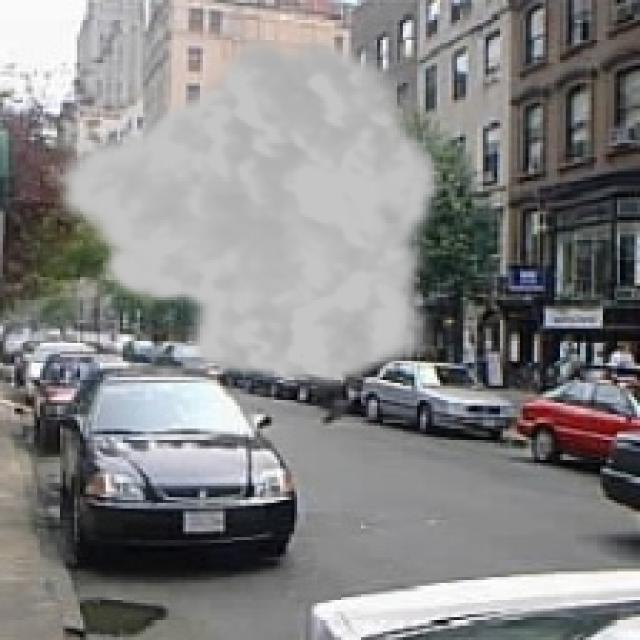Smoke: (46, 26, 446, 394)
